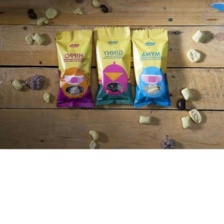snack: (49, 24, 100, 113), (128, 24, 175, 111), (90, 22, 136, 109)
